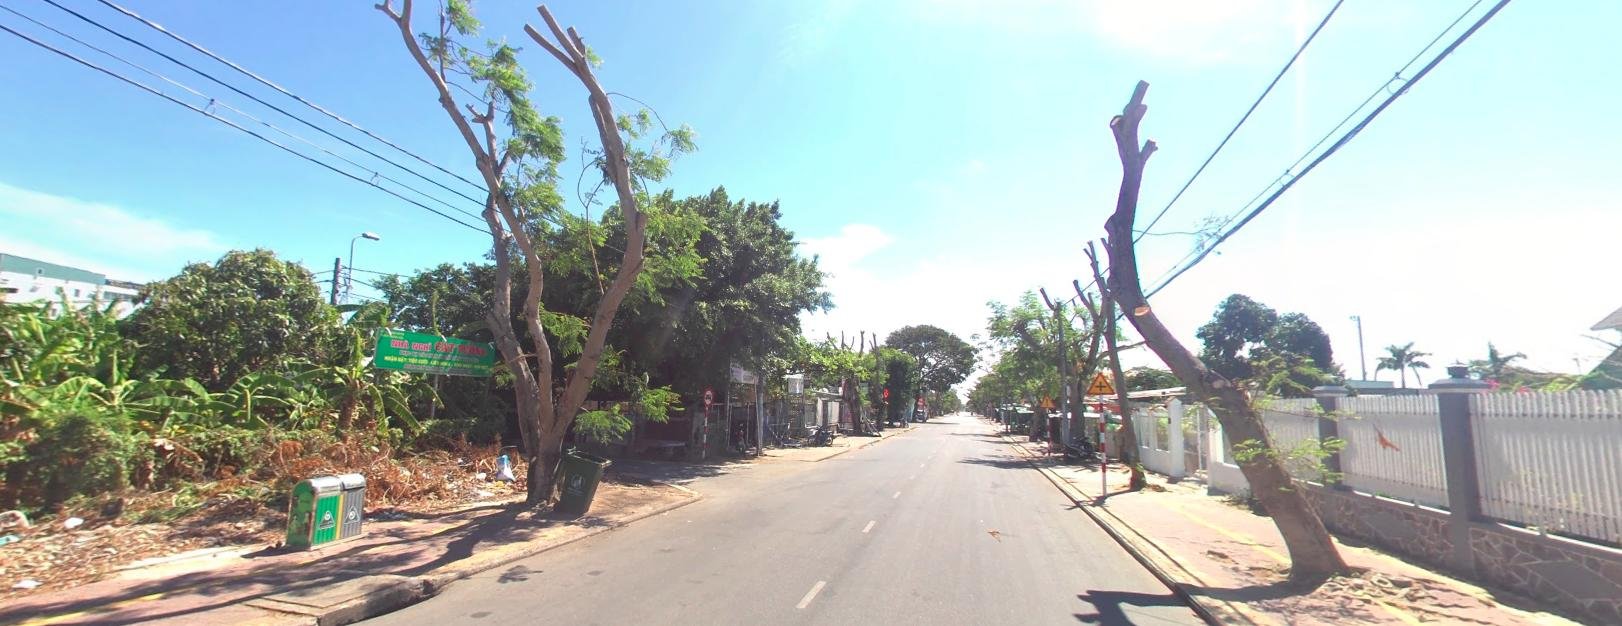Nguy hiem: (1086, 371, 1113, 392), (1039, 393, 1054, 405)
